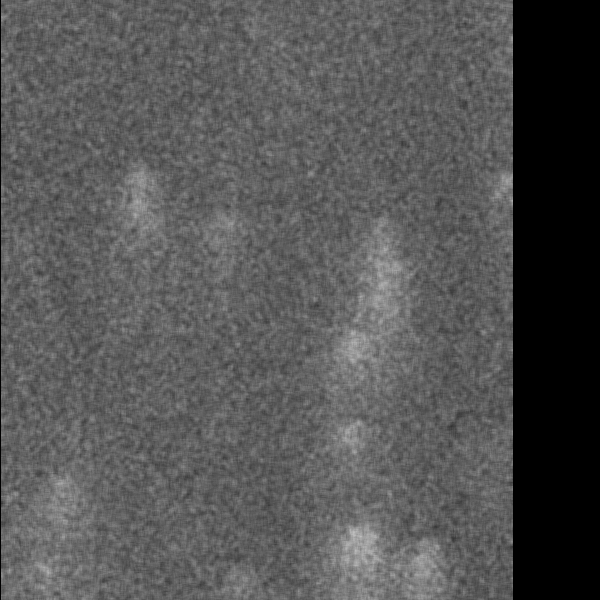spark: (118, 158, 155, 269), (333, 518, 385, 593), (336, 316, 375, 397), (381, 537, 431, 595), (50, 469, 77, 529), (332, 422, 361, 454)
